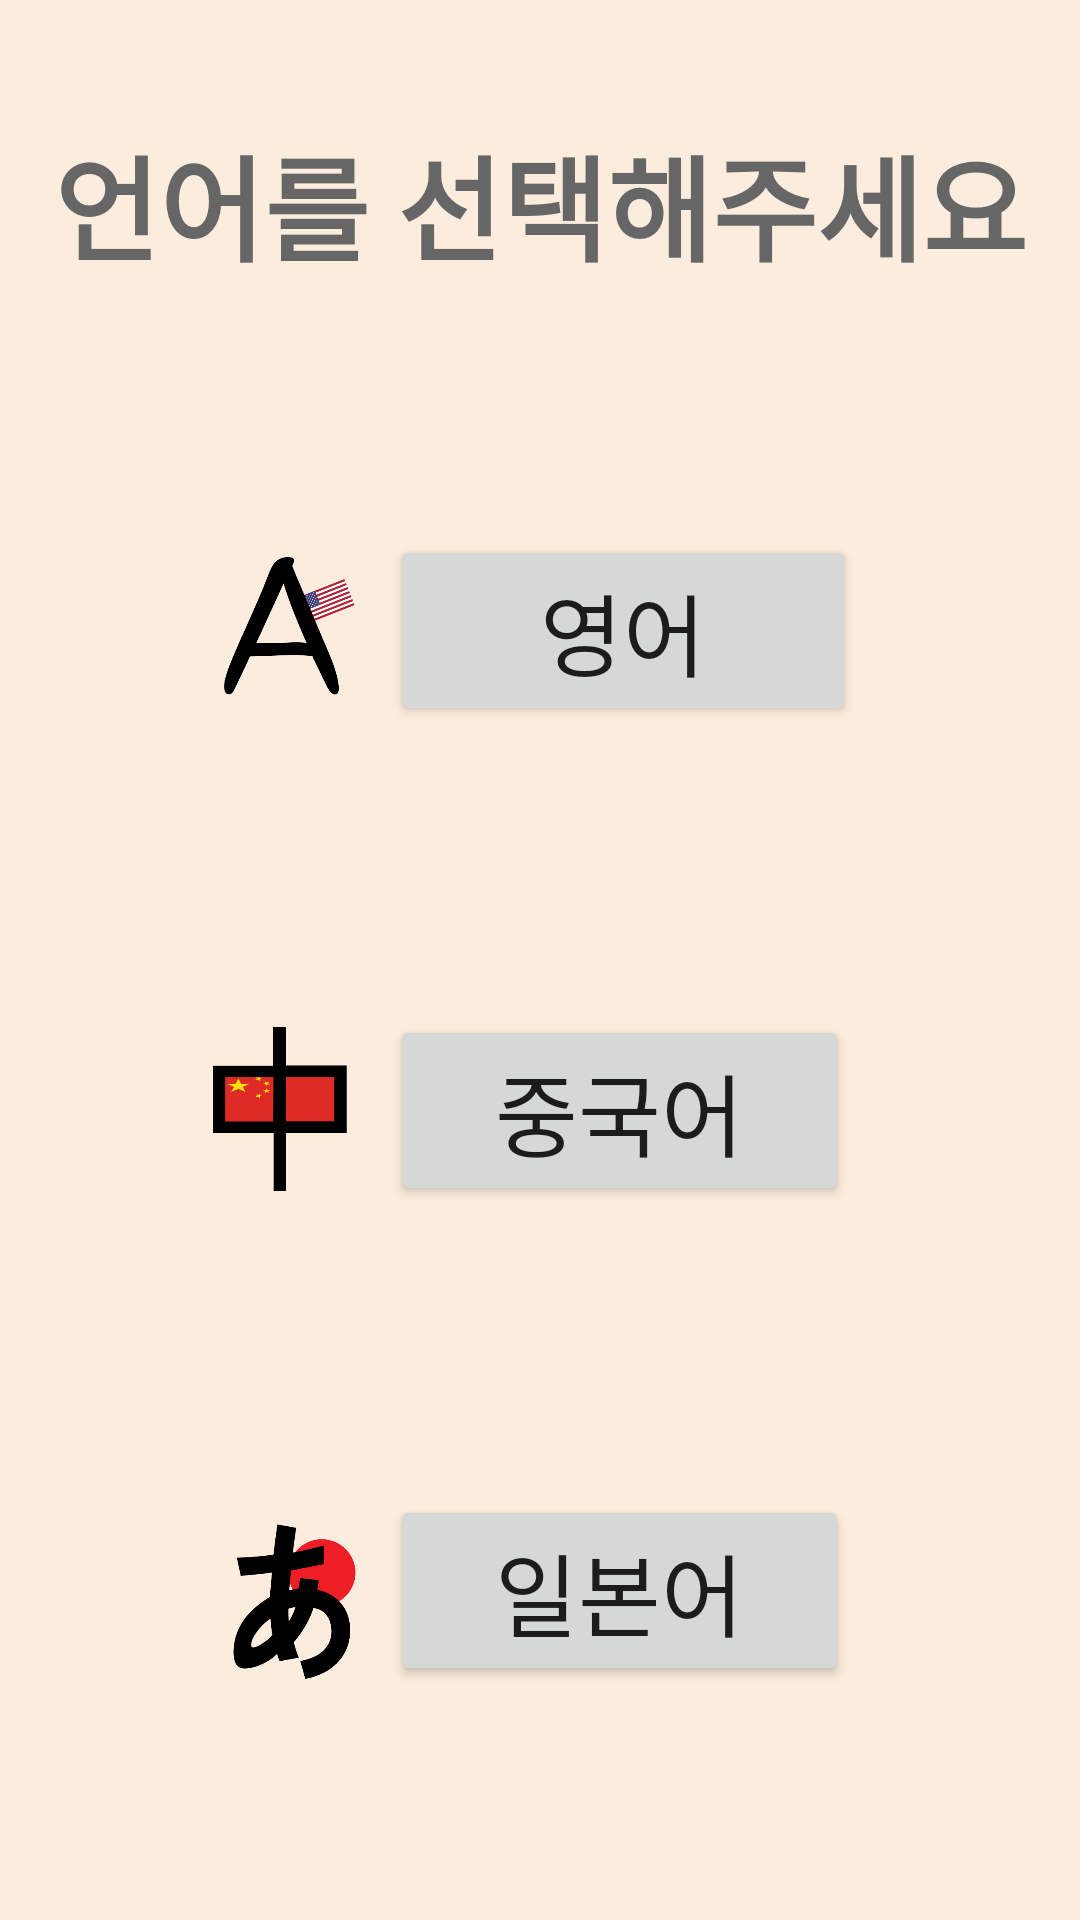

Point at icon controls on the screen. Image size 1080*1920, points as (x=x, y=y).
chinice: (x=280, y=1109)
english: (x=289, y=626)
japanes: (x=294, y=1601)
